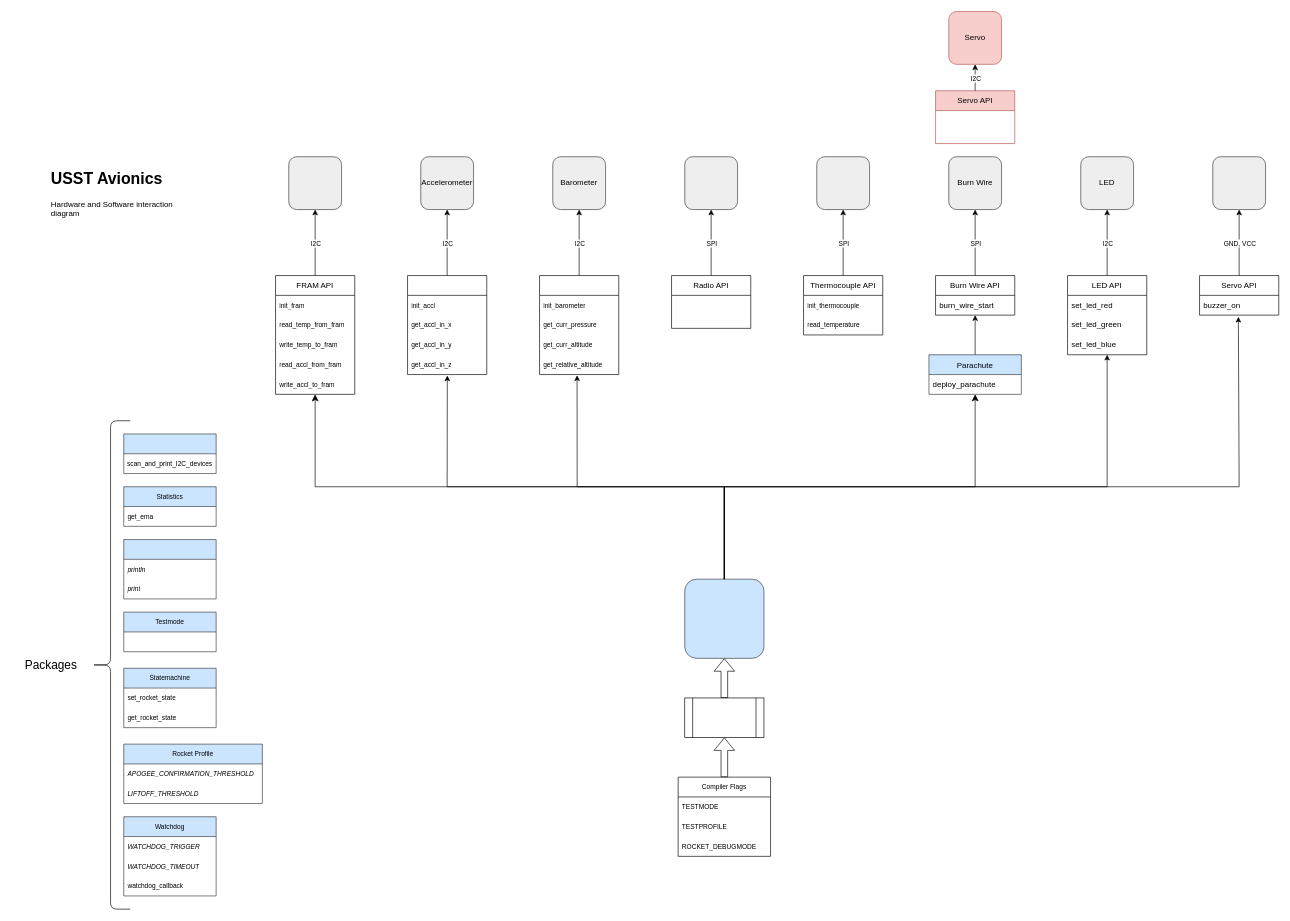
Image size: 1290x921. Some labels were removed from this diagram. The shapes that lost their labels are listed below. From the top down, each one's box as (x1, y1, x2, y2) in pixels, then its label:
(288, 156, 342, 210): FRAM
(684, 156, 738, 210): Radio
(816, 156, 870, 210): Thermocouple
(1212, 156, 1266, 210): Buzzer
(407, 275, 487, 375): Accelerometer API
(539, 275, 619, 375): Barometer API
(123, 433, 216, 474): I2C Scanner
(123, 539, 216, 599): Macros
(684, 578, 764, 658): main.cpp
(684, 697, 764, 738): Compilation
